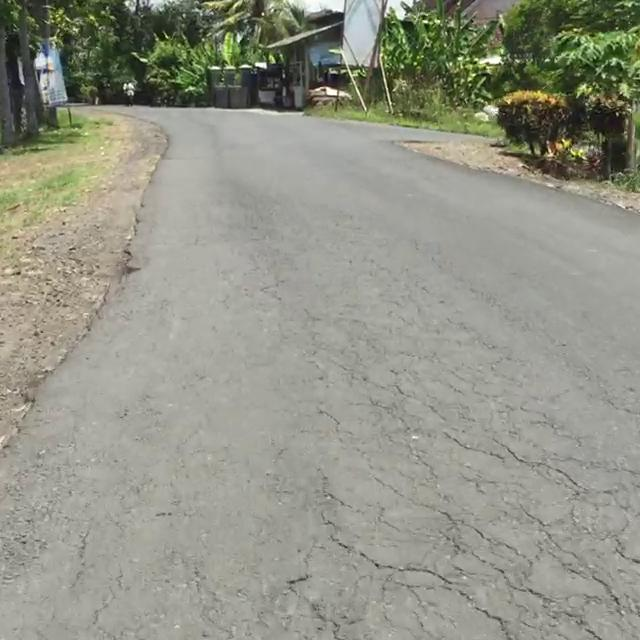retak_kulit_buaya: (288, 401, 640, 640), (309, 306, 524, 541)
